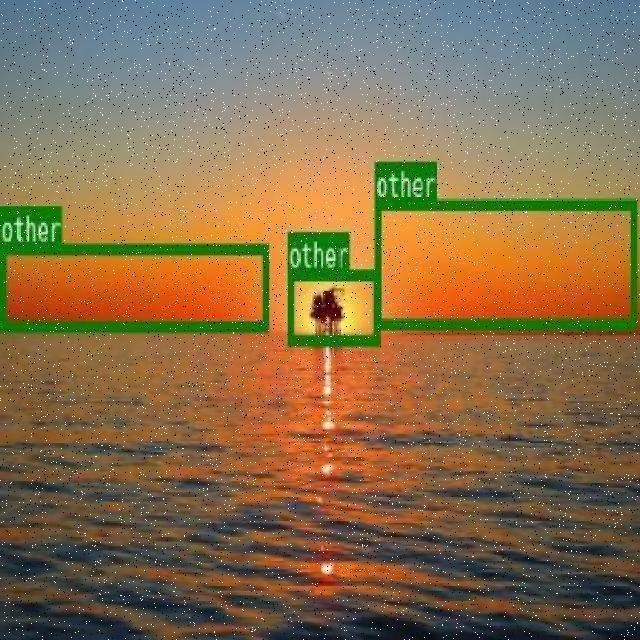Smoke: (374, 198, 634, 328), (0, 242, 266, 331), (287, 266, 378, 342)
